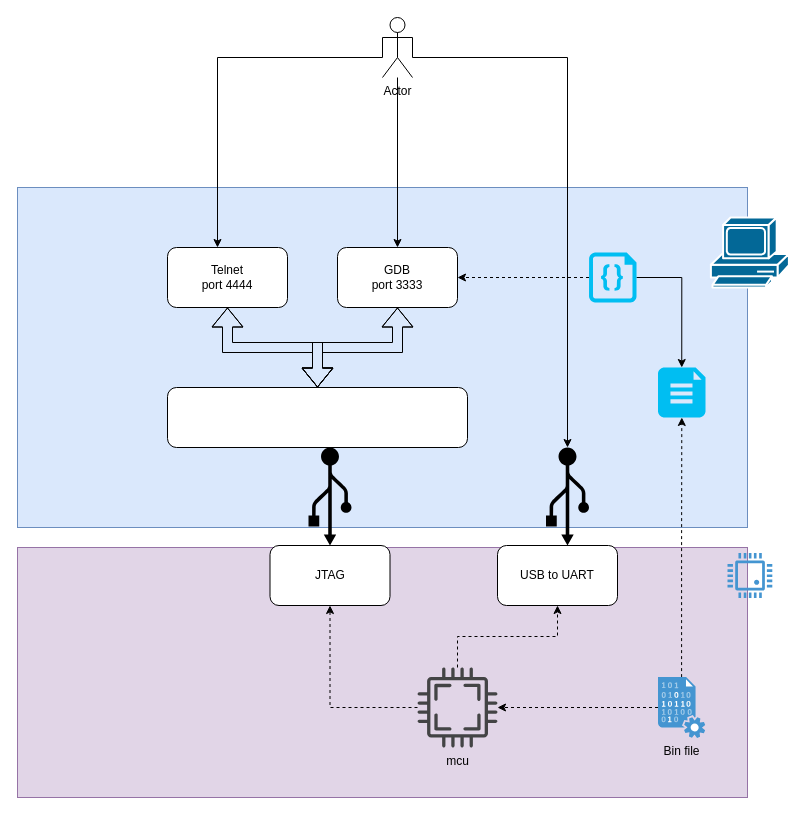
The diagram is 807 pixels wide and 815 high, and some of its shapes have lost their labels. Each missing label, with the centre of its shape:
"Code" belongs at point (612, 277).
"ELF File" belongs at point (681, 392).
"Openocd" belongs at point (317, 417).
